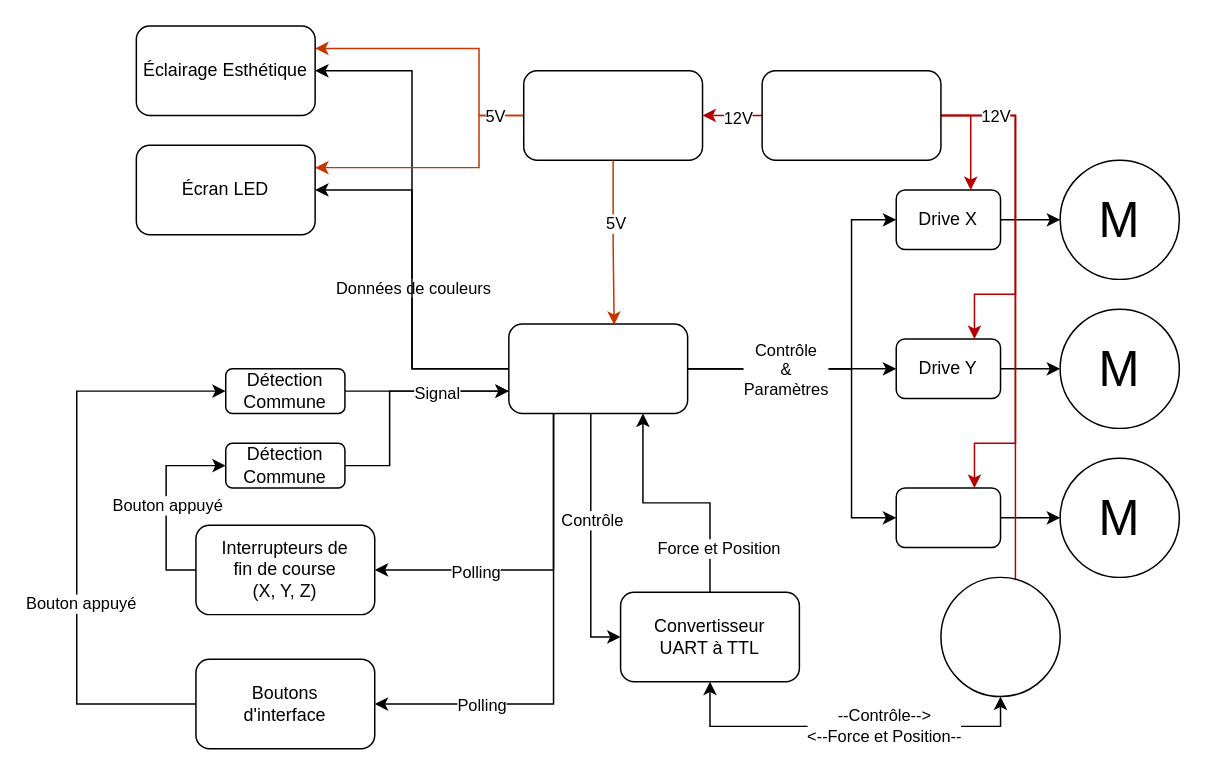
The diagram is 1205 pixels wide and 775 high, and some of its shapes have lost their labels. The shapes that lost their labels are listed below. From the top down, each one's box as (x1, y1, x2, y2) in pixels, then its label:
(522, 69, 703, 160): Convertisseur DC-DC 5V
(761, 69, 941, 160): Alimentaion 12V
(507, 323, 688, 413): Arduino MEGA
(895, 486, 1001, 548): Drive Z
(939, 576, 1060, 697): Dynamixel
